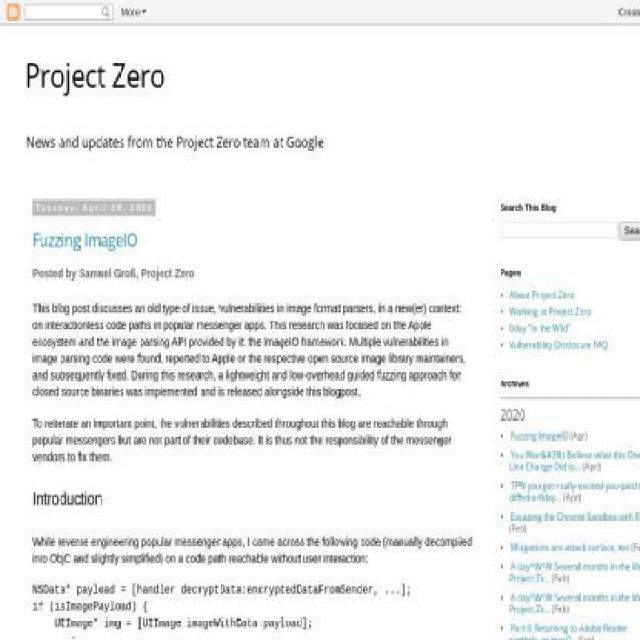field: (500, 222, 618, 240), (619, 222, 639, 240)
